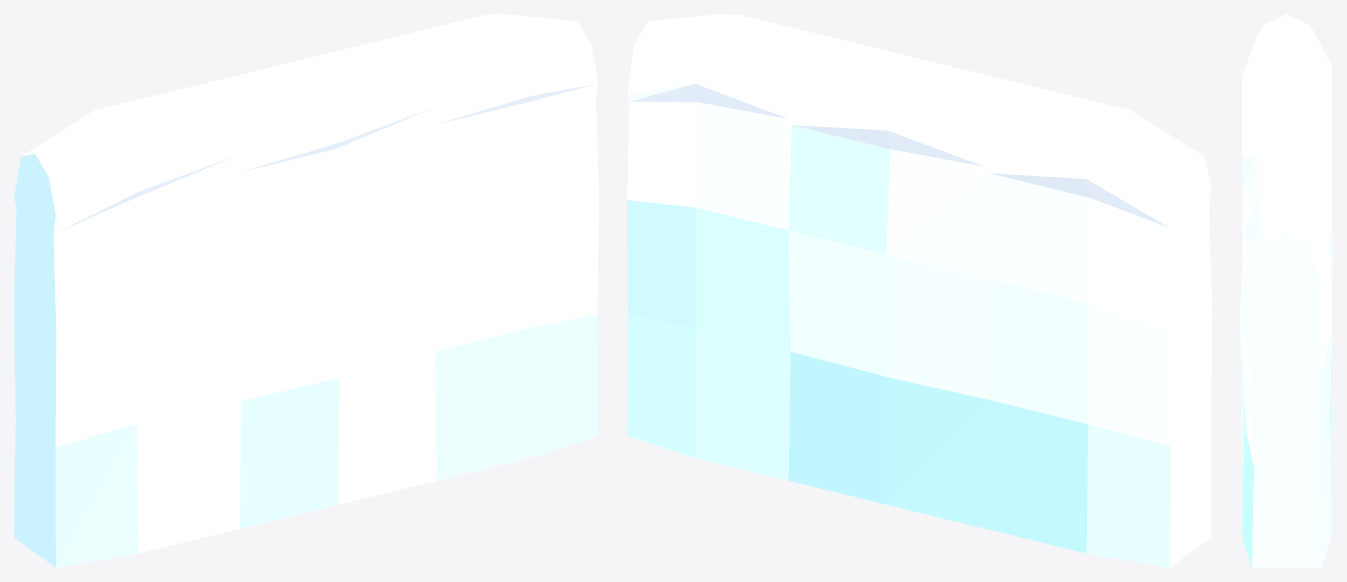
The model's file is ice-wall.glb.
3 views of the same model, side by side, from view 1: azimuth 30°, elevation 25°; view 2: azimuth 150°, elevation 25°; view 3: azimuth 270°, elevation 25° (orthographic). The views are drawn at different scales.
Visible parts, largest first — view 1: ice-wall; view 2: ice-wall; view 3: ice-wall.
Boxes of the visible parts, left/top/right/bottom form: ice-wall: left=14, top=14, right=598, bottom=567; ice-wall: left=627, top=14, right=1211, bottom=567; ice-wall: left=1240, top=14, right=1332, bottom=567.
Bounding box in the file's own units: 20.4 × 15.25 × 3.6.
